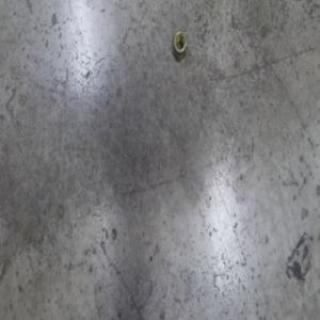Nuttrack_idkeyframe: (171, 27, 186, 60)
